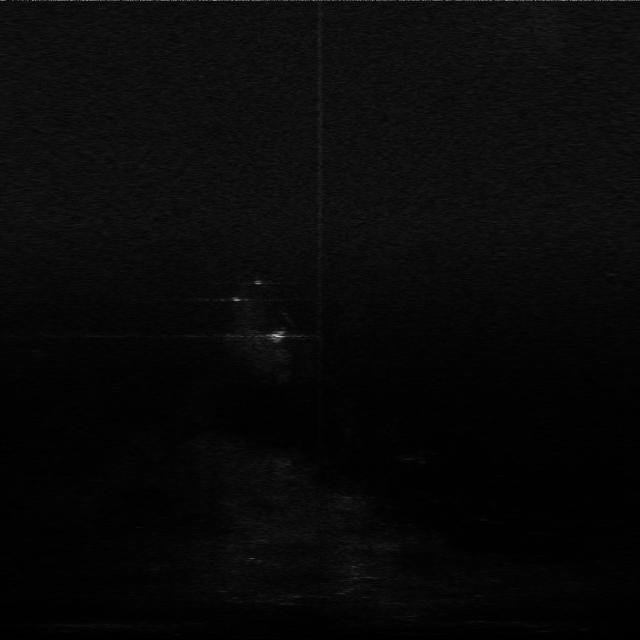rov: (266, 329, 288, 342)
